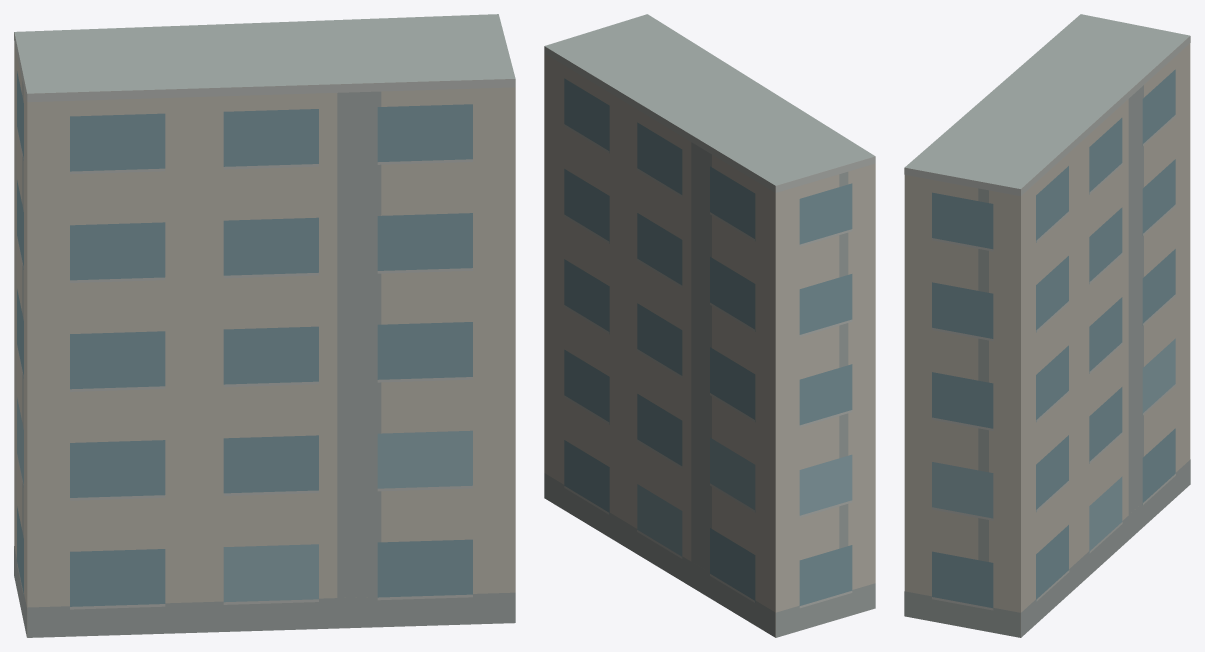
The model's file is survey-upis-32727868.glb.
3 views of the same model, side by side, from view 1: azimuth 30°, elevation 25°; view 2: azimuth 150°, elevation 25°; view 3: azimuth 270°, elevation 25° (orthographic). The views are drawn at different scales.
Parts seen in each view (by area): view 1: survey-upis-32727868.tmp; view 2: survey-upis-32727868.tmp; view 3: survey-upis-32727868.tmp.
Boxes of the visible parts, <box> form: survey-upis-32727868.tmp: <box>14,14,515,637</box>; survey-upis-32727868.tmp: <box>544,14,875,637</box>; survey-upis-32727868.tmp: <box>904,14,1190,637</box>.
Size of the model in its own units: 12.9 by 15.4 by 8.91.
